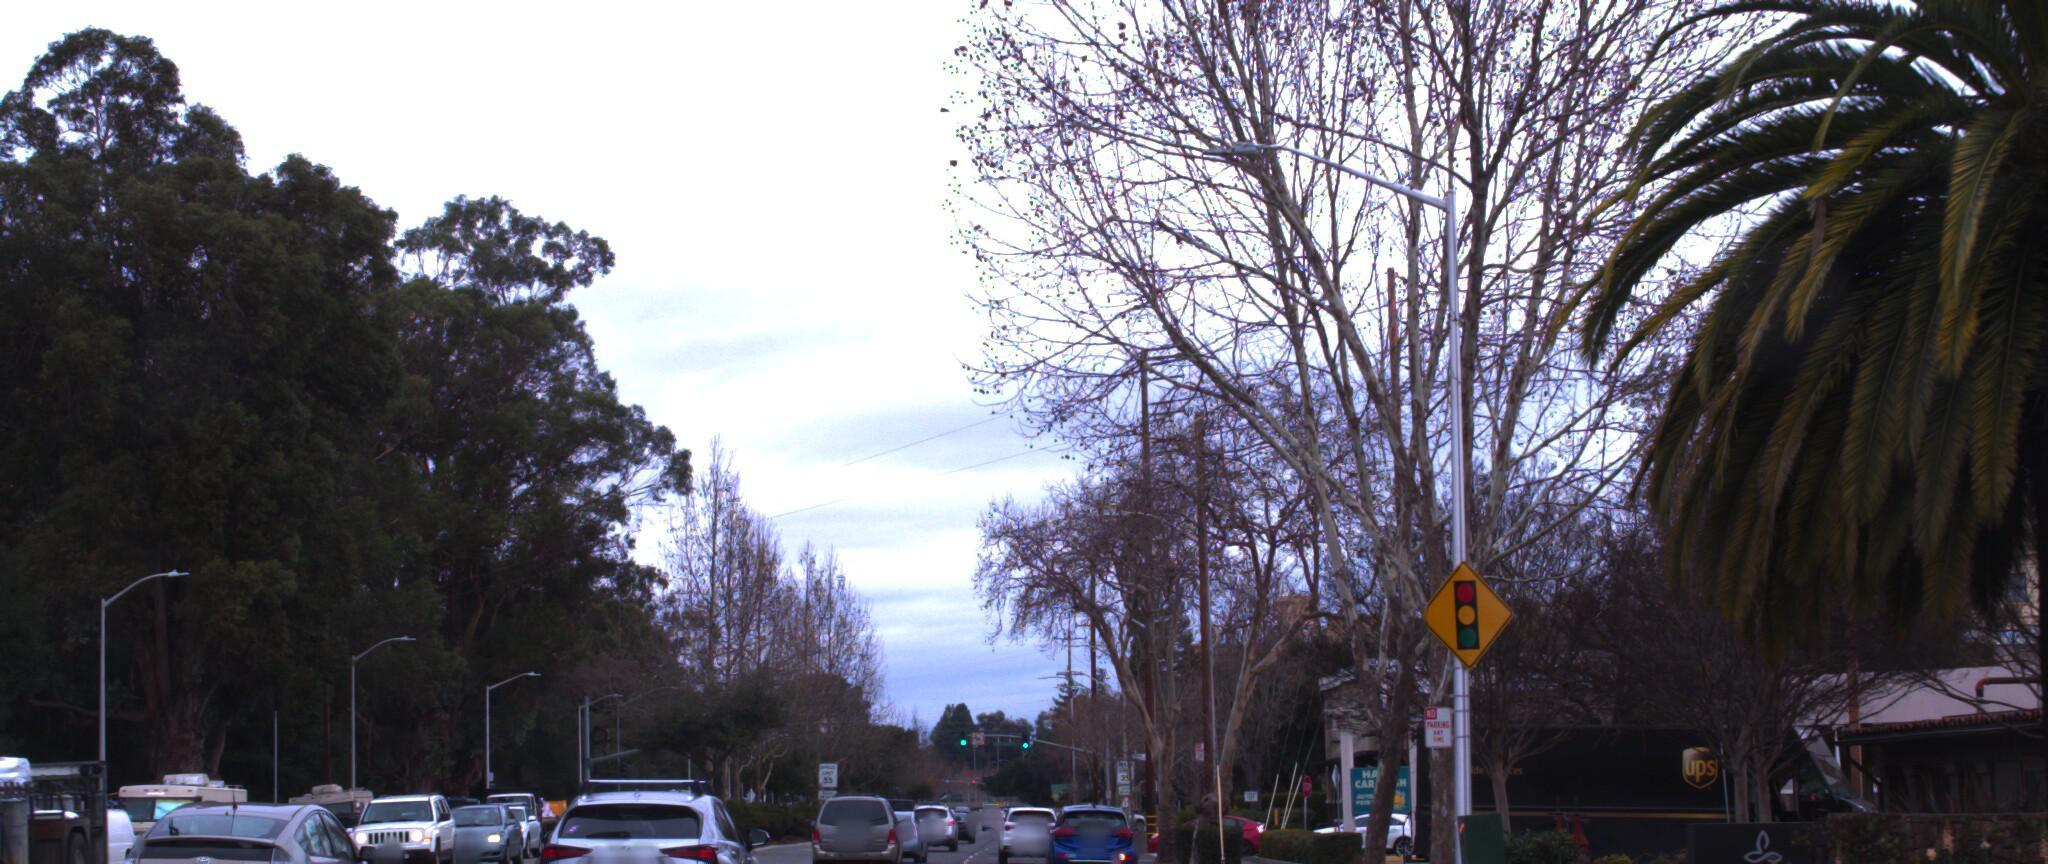car: (521, 750, 772, 864), (95, 777, 406, 864), (345, 767, 474, 856), (1044, 784, 1142, 864), (811, 773, 906, 854)
truck: (1417, 696, 1920, 864), (0, 677, 146, 864)
